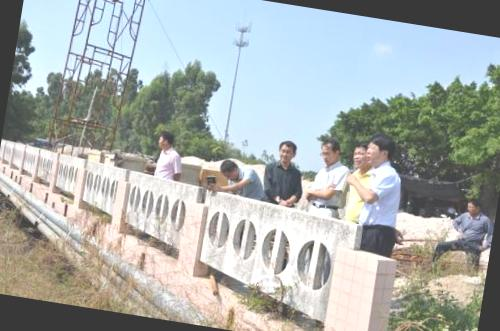no_helmet: (263, 221, 293, 278), (362, 130, 398, 170), (215, 152, 243, 185), (316, 135, 343, 168), (274, 136, 301, 165), (349, 140, 371, 168), (154, 126, 175, 151), (465, 196, 484, 217)
